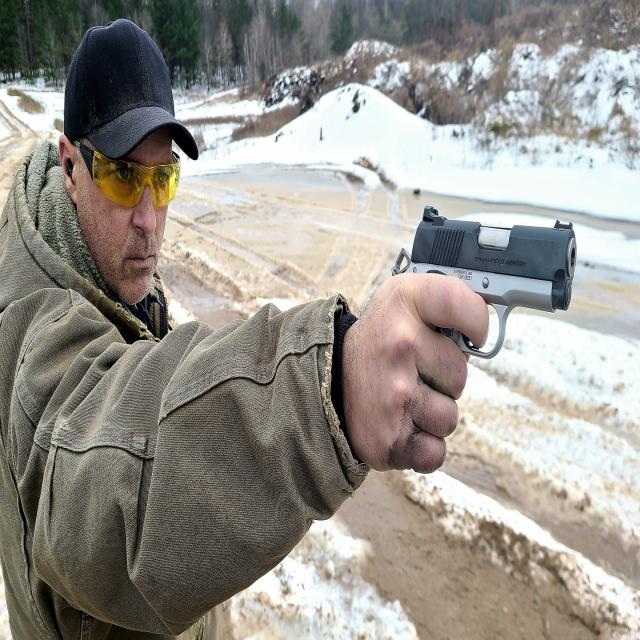HandGun: (391, 206, 577, 352)
